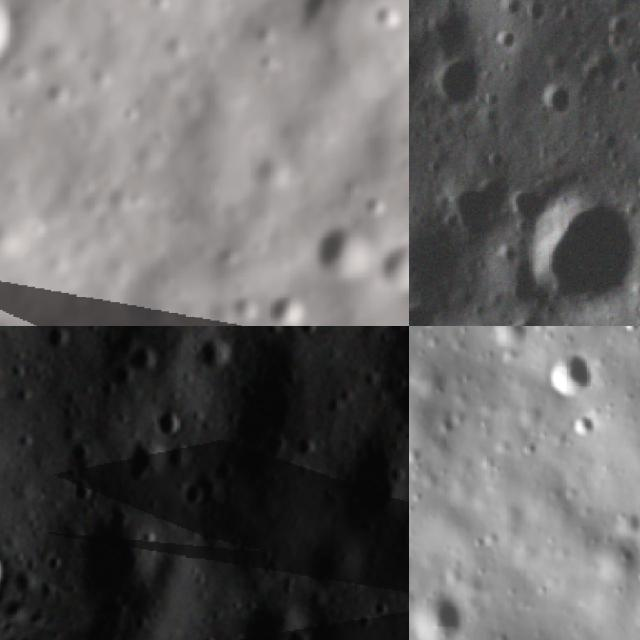crater: (511, 171, 640, 326), (67, 518, 171, 614), (327, 432, 409, 527), (301, 218, 381, 286), (422, 49, 488, 118), (110, 432, 170, 500), (411, 593, 469, 640), (371, 234, 409, 302), (0, 0, 28, 82), (267, 280, 316, 326), (544, 350, 592, 396), (168, 477, 216, 522), (535, 75, 576, 122), (369, 0, 409, 36), (149, 410, 187, 447), (288, 0, 340, 27), (490, 22, 524, 58), (276, 619, 317, 640), (485, 326, 528, 345), (409, 0, 425, 48), (0, 539, 14, 590), (568, 414, 594, 438), (517, 441, 541, 455)
